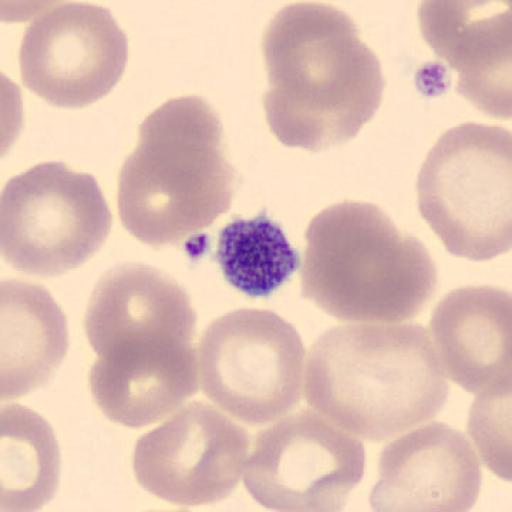Platelet: (213, 209, 303, 300)
RBC: (260, 0, 386, 152), (303, 316, 449, 444), (298, 198, 439, 324), (414, 120, 512, 264), (1, 158, 114, 279), (83, 260, 199, 376), (196, 306, 306, 426), (240, 410, 368, 512), (134, 92, 234, 222), (131, 401, 250, 509), (16, 0, 130, 110), (88, 328, 198, 429), (116, 142, 217, 248), (370, 420, 484, 512), (428, 282, 512, 398), (2, 276, 71, 400), (449, 8, 512, 120), (2, 402, 62, 512), (416, 0, 512, 67), (468, 370, 512, 486), (1, 69, 25, 164), (1, 0, 91, 24), (1, 0, 60, 24)
